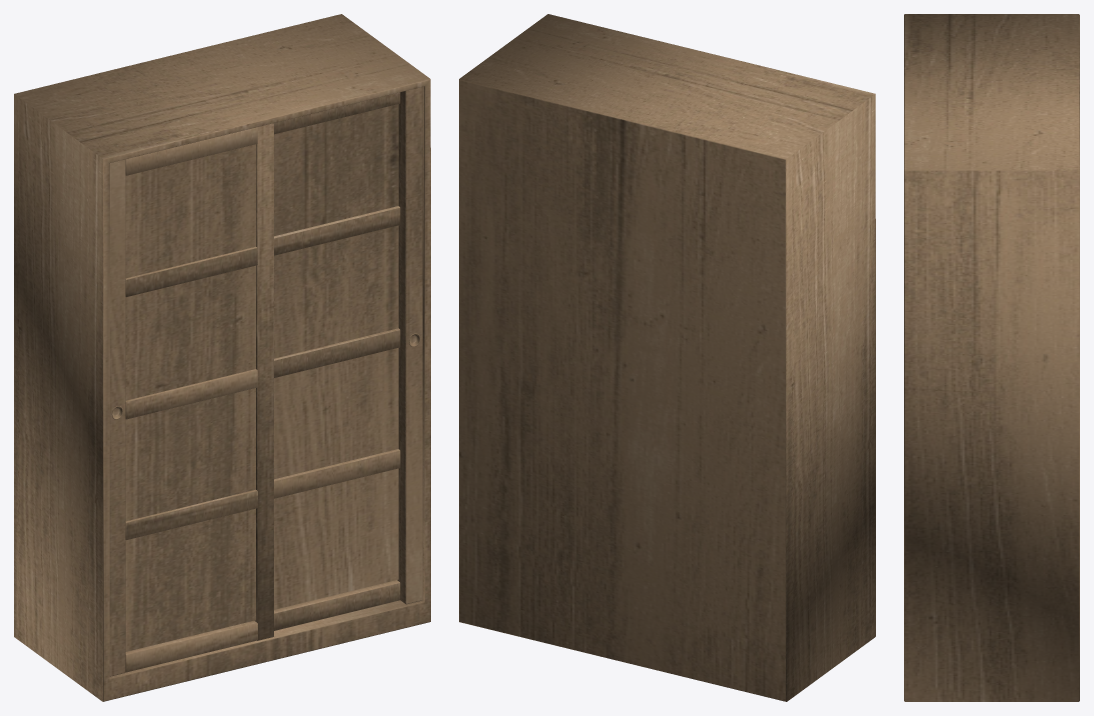
File: ik-kivine_baked.glb
The picture shows the model from 3 angles, left to right: view 1: azimuth 30°, elevation 25°; view 2: azimuth 150°, elevation 25°; view 3: azimuth 270°, elevation 25°; orthographic projection. The views are drawn at different scales.
Parts seen in each view (by area): view 1: Mesh_0.029; view 2: Mesh_0.029; view 3: Mesh_0.029.
Boxes of the visible parts, bbox=[...] form: Mesh_0.029: bbox=[14, 14, 430, 701]; Mesh_0.029: bbox=[459, 14, 875, 701]; Mesh_0.029: bbox=[904, 14, 1079, 701].
Size of the model in its own units: 120 by 190 by 57.
Materials: 1 (1 with a texture image).
